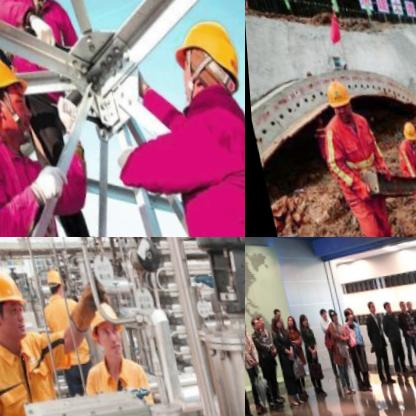head: (377, 294, 391, 310), (339, 302, 352, 319), (266, 311, 280, 326), (246, 312, 258, 328), (362, 295, 374, 311), (294, 309, 306, 324), (393, 293, 404, 307), (251, 309, 261, 324), (269, 303, 279, 318), (314, 301, 324, 316), (325, 302, 335, 317), (282, 311, 293, 324), (343, 303, 352, 314), (402, 294, 409, 304)
helmet: (157, 4, 245, 112), (0, 41, 37, 145), (82, 291, 130, 366), (0, 261, 32, 352), (317, 72, 354, 124), (42, 261, 68, 299), (394, 114, 416, 150)
